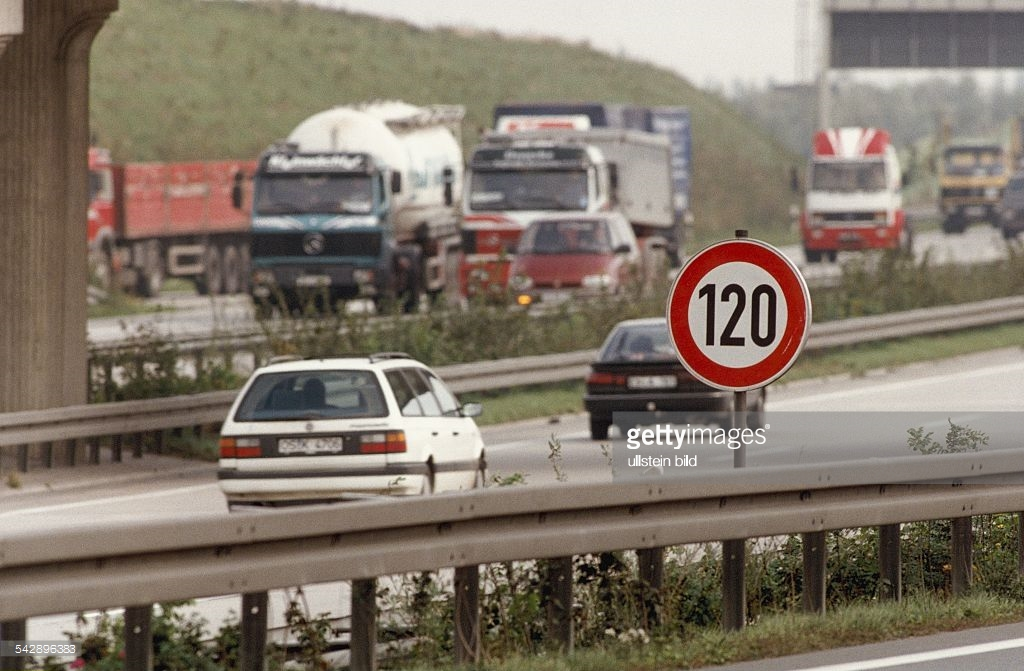Speed_limit_120km: (662, 238, 815, 394)
